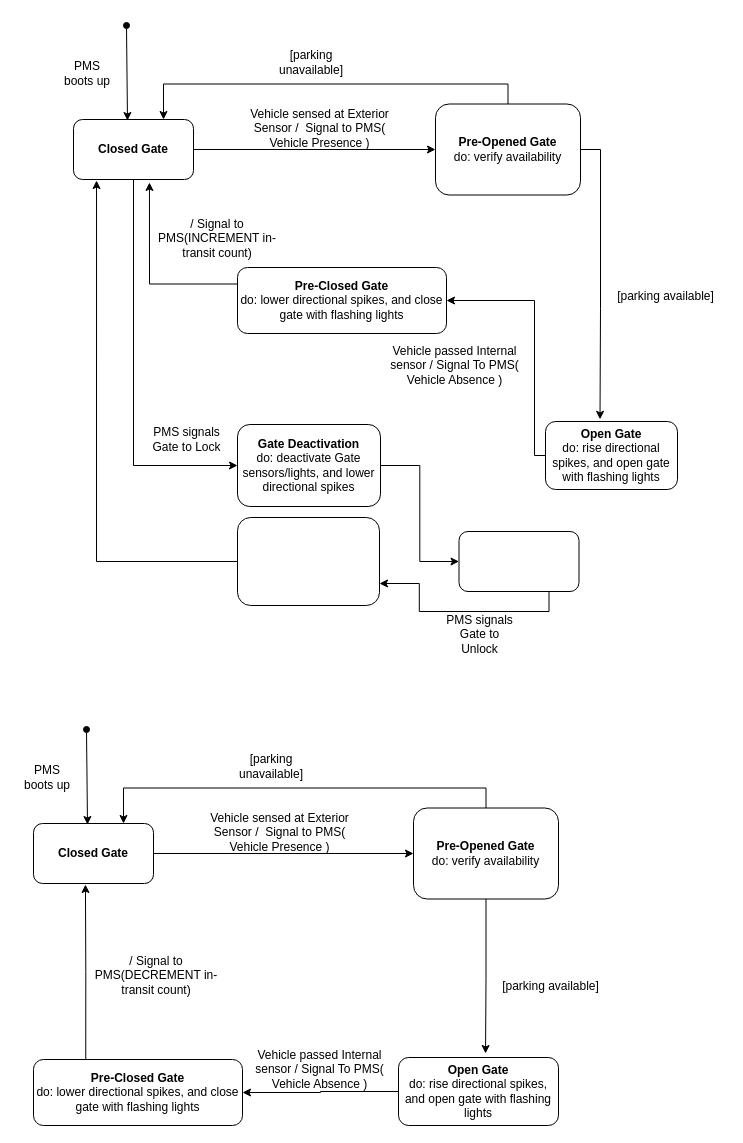
This 743x1143 diagram has some shape labels left out. The centre of each missing label's shape, as x and y in pixels:
Gate Reactivation do: reactivate gate sensors/lights: (x=308, y=561)
Locked Gate: (x=518, y=561)
